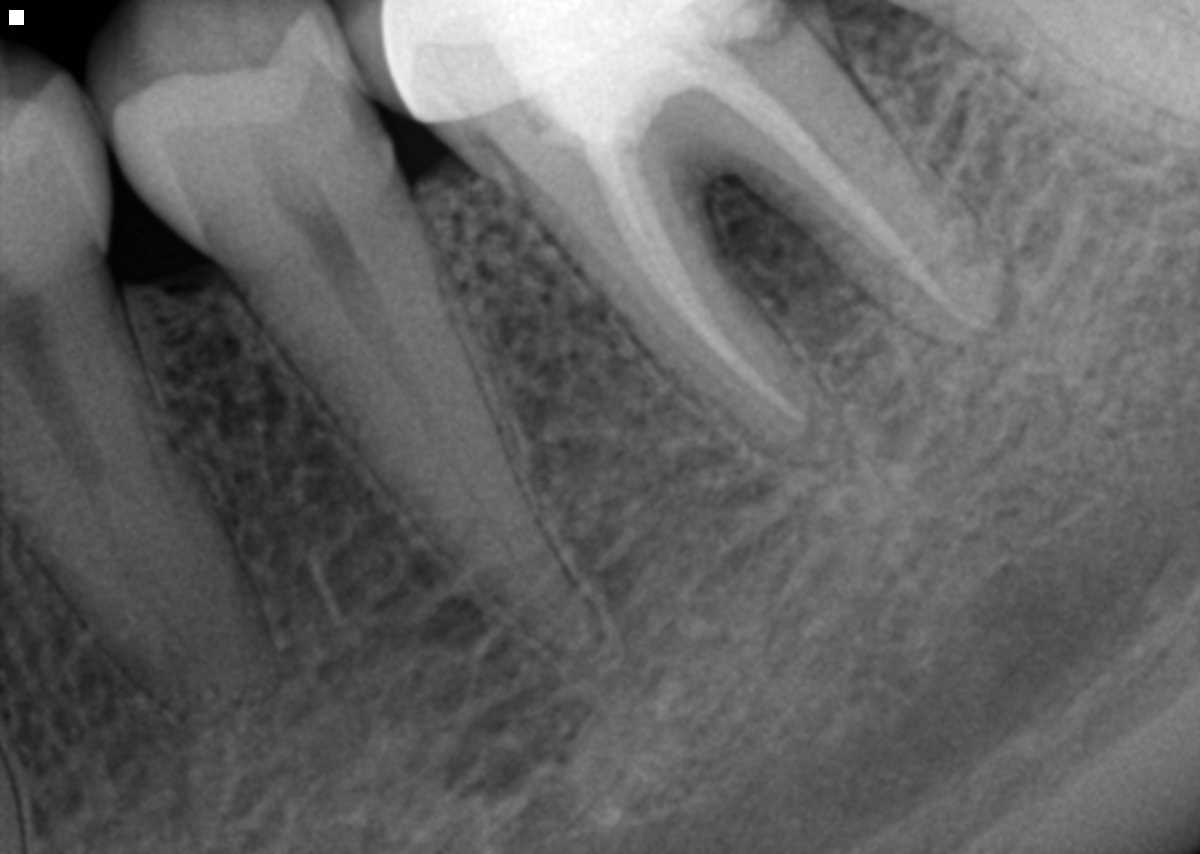Apical Lesion: (967, 273, 1020, 350)
Distal Root: (731, 51, 1008, 340)
Main Canal: (324, 244, 580, 632), (4, 331, 158, 589)
Main Root: (256, 198, 606, 652), (0, 288, 276, 723)
Mesial Root: (528, 185, 818, 449), (937, 0, 1200, 146)
Root Canal Filling: (708, 55, 974, 323), (611, 189, 806, 421)
